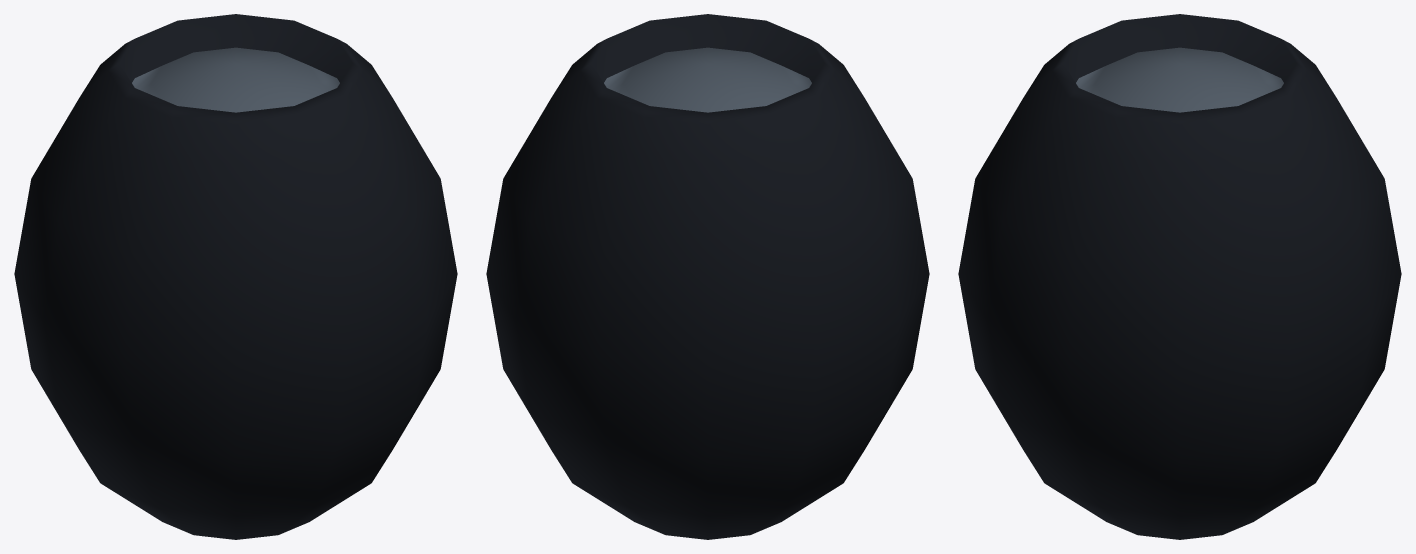
The model's file is Olive_black.fbx.
3 renders of one model, left to right at view 1: azimuth 30°, elevation 25°; view 2: azimuth 150°, elevation 25°; view 3: azimuth 270°, elevation 25°, orthographic.
Visible parts, largest first — view 1: Olive_black; view 2: Olive_black; view 3: Olive_black.
Part boxes in pixels (x1=…): Olive_black: x1=14, y1=14, x2=457, y2=539; Olive_black: x1=486, y1=14, x2=929, y2=539; Olive_black: x1=958, y1=14, x2=1401, y2=539.
Bounding box in the file's own units: 20.33 × 20.33 × 23.27.
